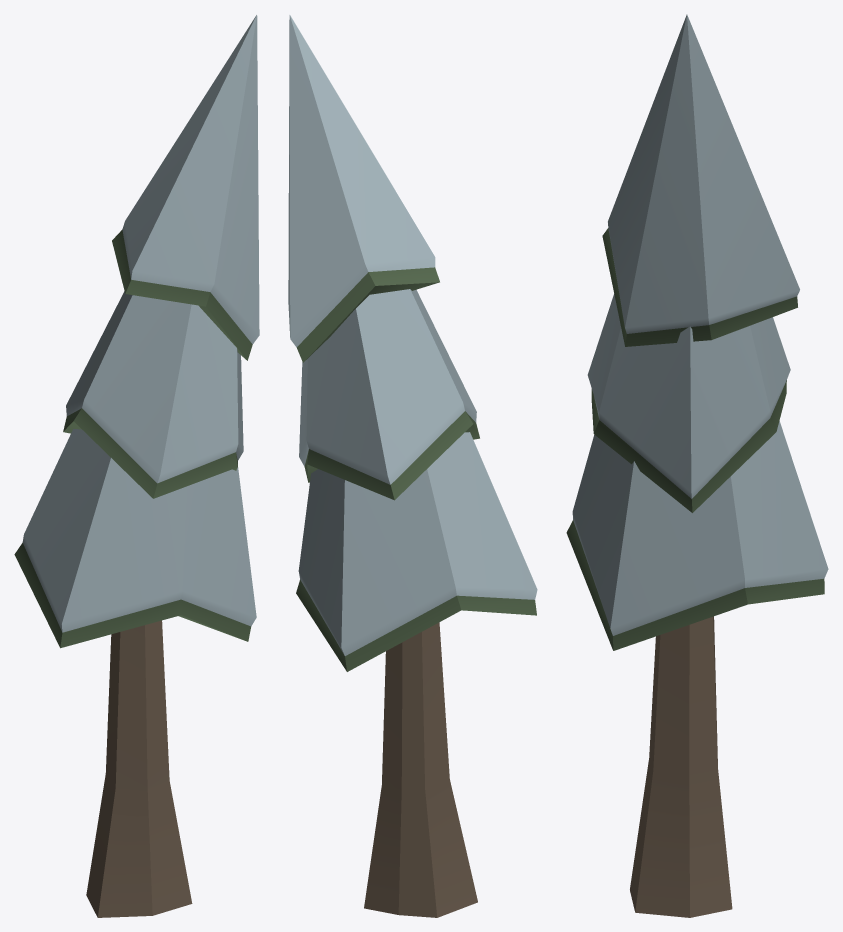
Rendered from Geo_PineSmall.fbx.
3 renders of one model, left to right at view 1: azimuth 30°, elevation 25°; view 2: azimuth 150°, elevation 25°; view 3: azimuth 270°, elevation 25°, orthographic. The views are drawn at different scales.
Visible parts, largest first — view 1: PineTreeSmall_Mesh; view 2: PineTreeSmall_Mesh; view 3: PineTreeSmall_Mesh.
Boxes of the visible parts, x1,y1,x2,y2 form: PineTreeSmall_Mesh: (14, 15, 259, 917); PineTreeSmall_Mesh: (288, 15, 537, 917); PineTreeSmall_Mesh: (566, 14, 828, 917).
Bounding box in the file's own units: 71.72 × 263 × 66.07.
